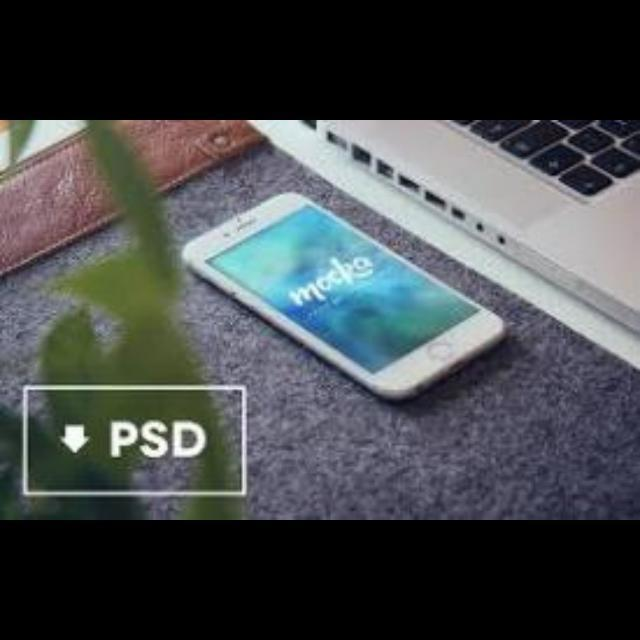phone: (155, 193, 529, 413)
